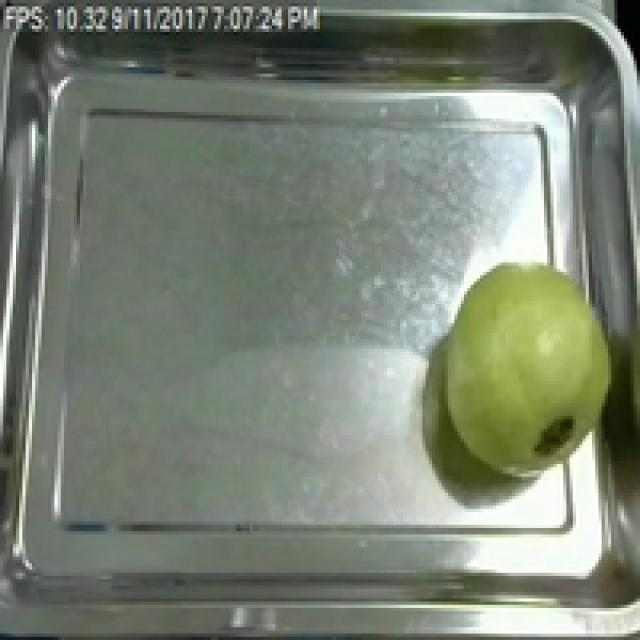Fruit: (422, 250, 630, 490)
